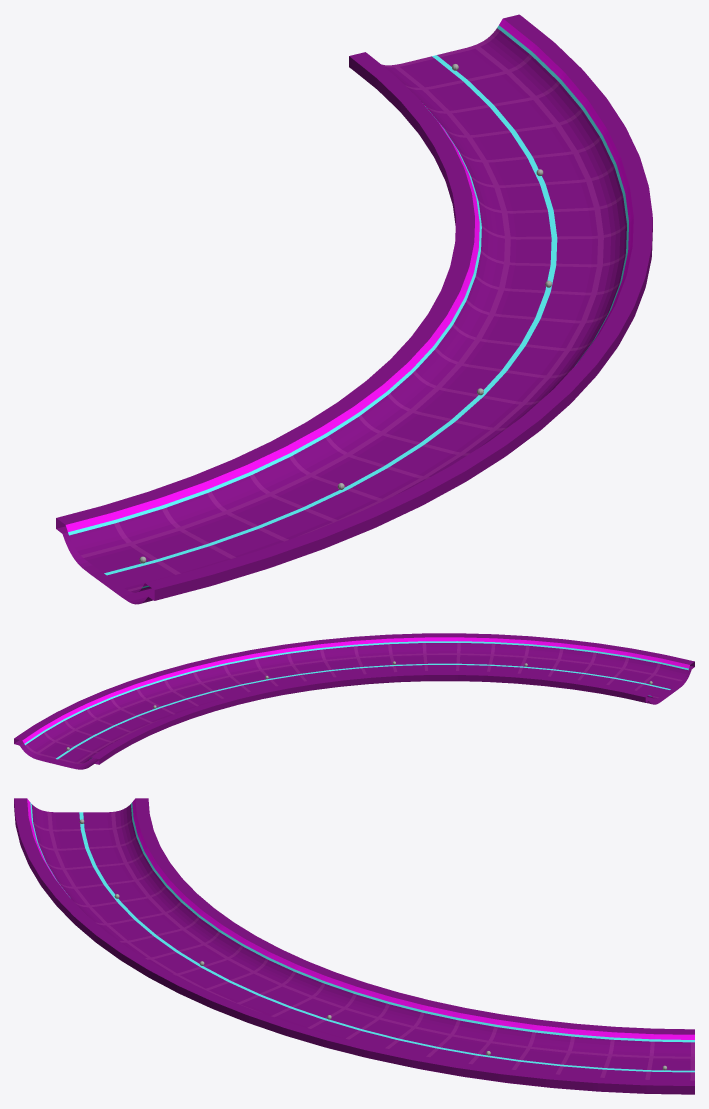
File: SmallPath90Degree_T2.fbx
3 views of the same model, one above another, from view 1: azimuth 30°, elevation 25°; view 2: azimuth 150°, elevation 25°; view 3: azimuth 270°, elevation 25° (orthographic). The views are drawn at different scales.
Visible parts, largest first — view 1: SmallPath90Degree_T2; view 2: SmallPath90Degree_T2; view 3: SmallPath90Degree_T2.
Boxes of the visible parts, <box> form: SmallPath90Degree_T2: <box>56,14,652,604</box>; SmallPath90Degree_T2: <box>14,633,694,769</box>; SmallPath90Degree_T2: <box>14,798,694,1094</box>.
Bounding box in the file's own units: 5717 × 199 × 5717.
Materials: 2 (1 with a texture image).
